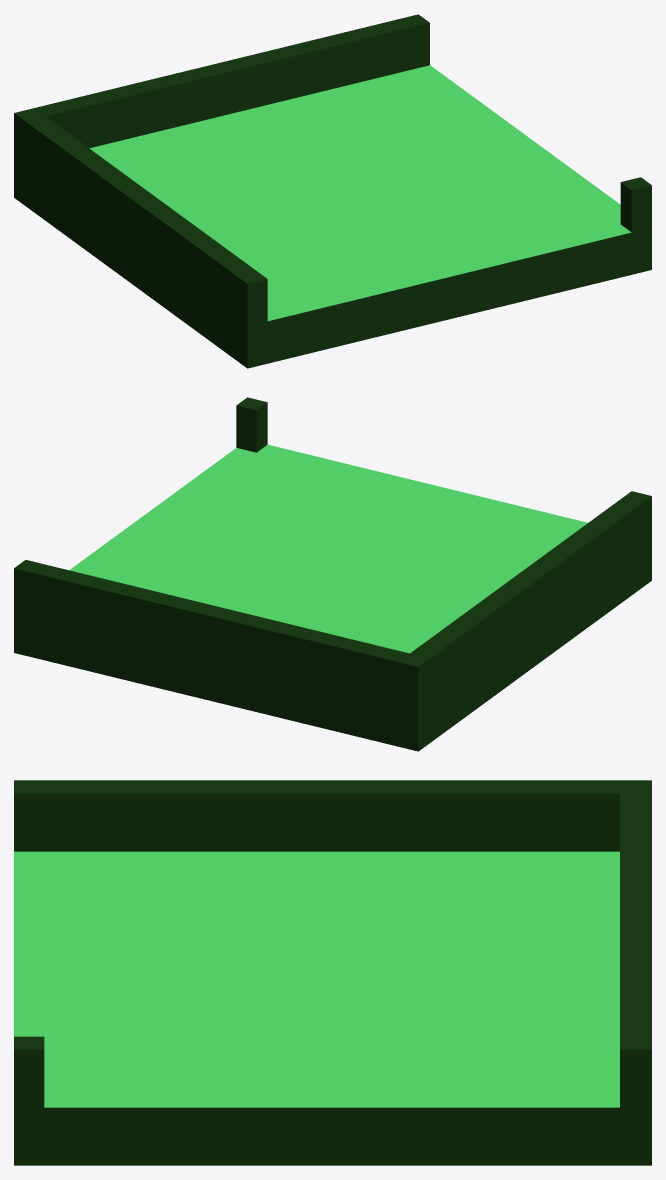
Rendered from MG Corner Walls.fbx.
3 views of the same model, one above another, from view 1: azimuth 30°, elevation 25°; view 2: azimuth 150°, elevation 25°; view 3: azimuth 270°, elevation 25° (orthographic). The views are drawn at different scales.
Visible parts, largest first — view 1: MG Corner Walls; view 2: MG Corner Walls; view 3: MG Corner Walls.
Boxes of the visible parts, x1,y1,x2,y2 form: MG Corner Walls: (14, 14, 651, 368); MG Corner Walls: (14, 397, 651, 751); MG Corner Walls: (14, 780, 651, 1165).
Size of the model in its own units: 200 by 40 by 200.
